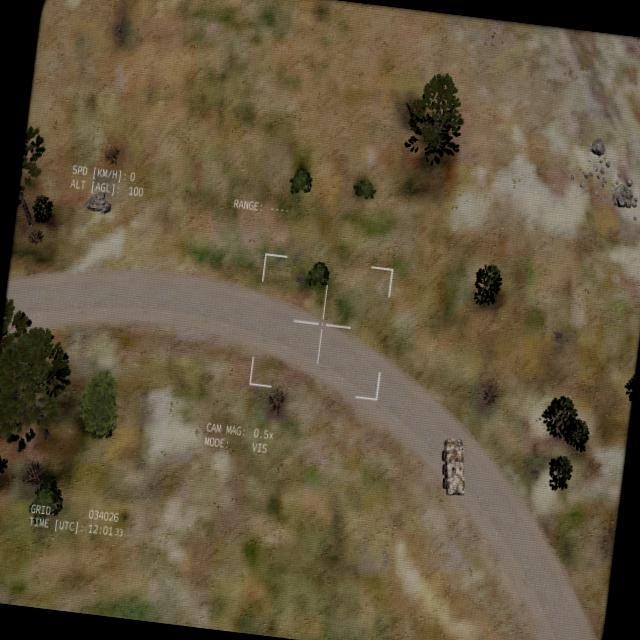apc: (434, 434, 470, 498)
